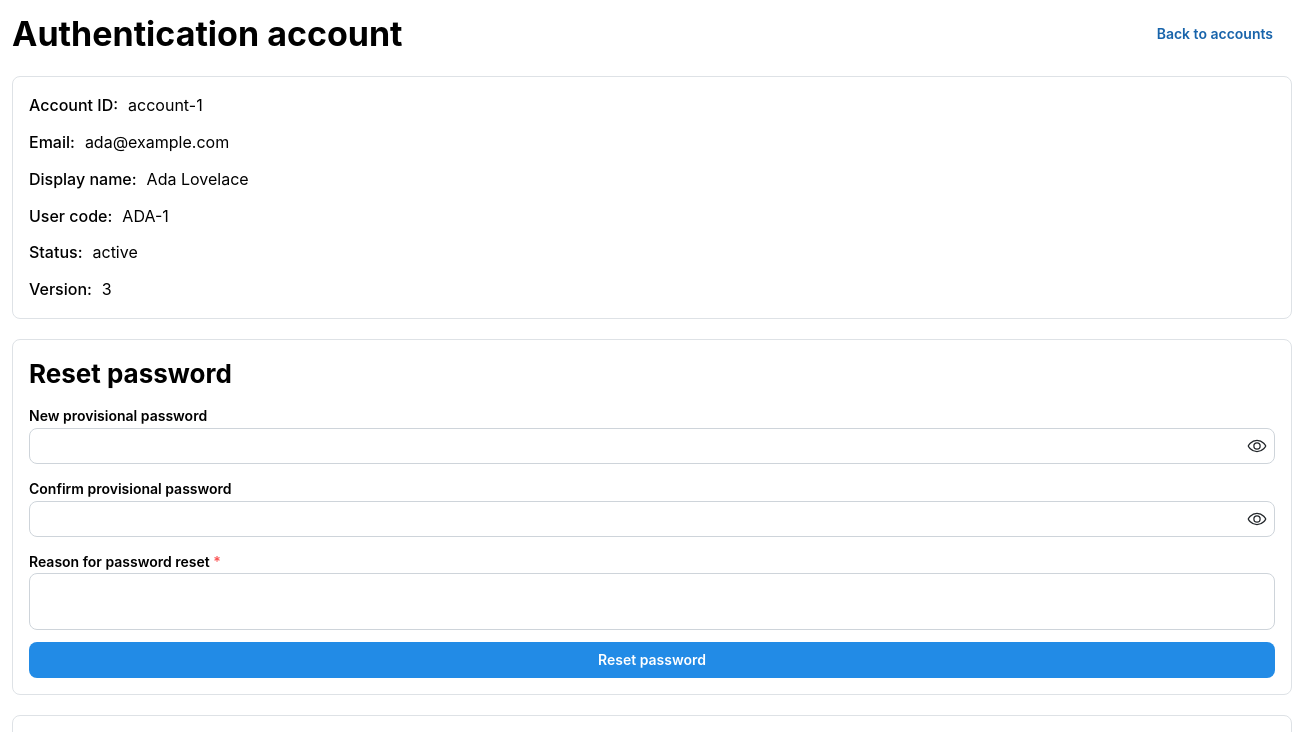
Test case: AuthenticationAccountsPage › validates reset locally and clears secret inputs without submitting
Type "one" into the password field labelled "New provisional password" at point(652, 446), box [30,429,1274,463]
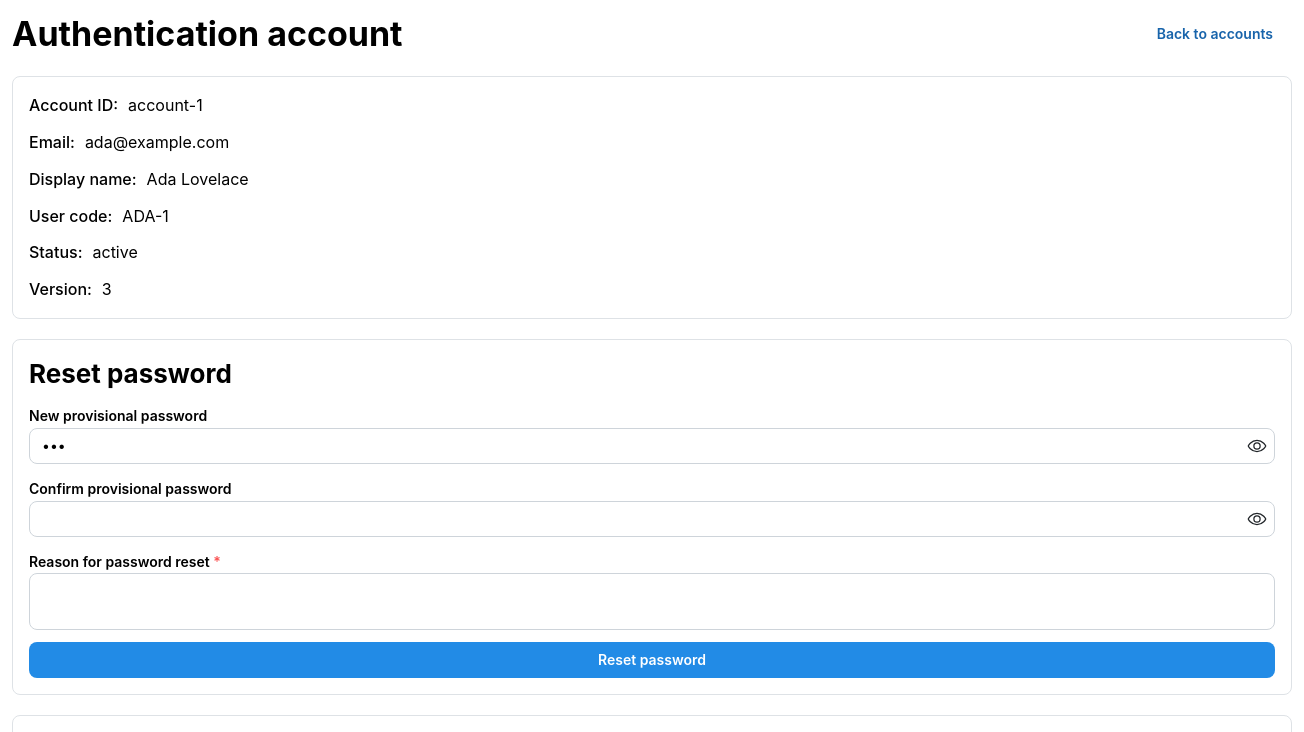
Type "two" into the password field labelled "Confirm provisional password" at point(652, 519), box [30,502,1274,536]
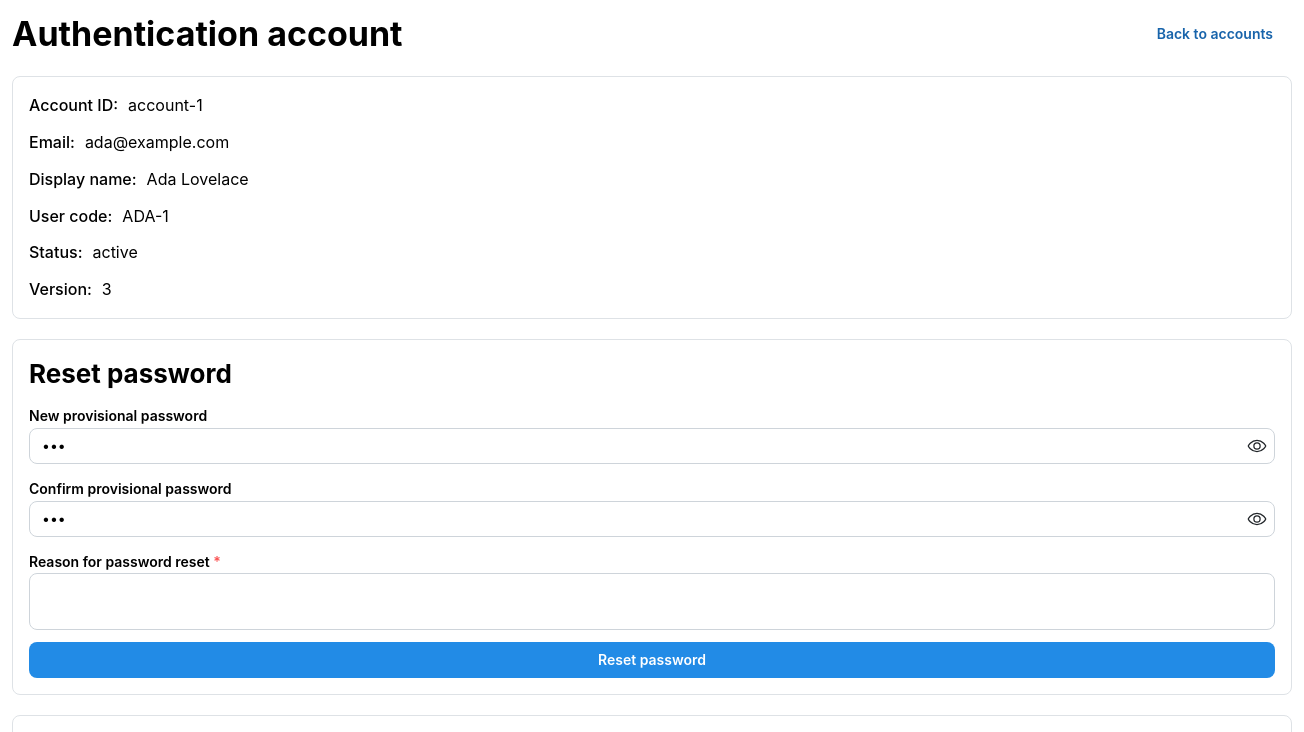
Click the button "Reset password" at point(652, 660), box [29,642,1275,678]
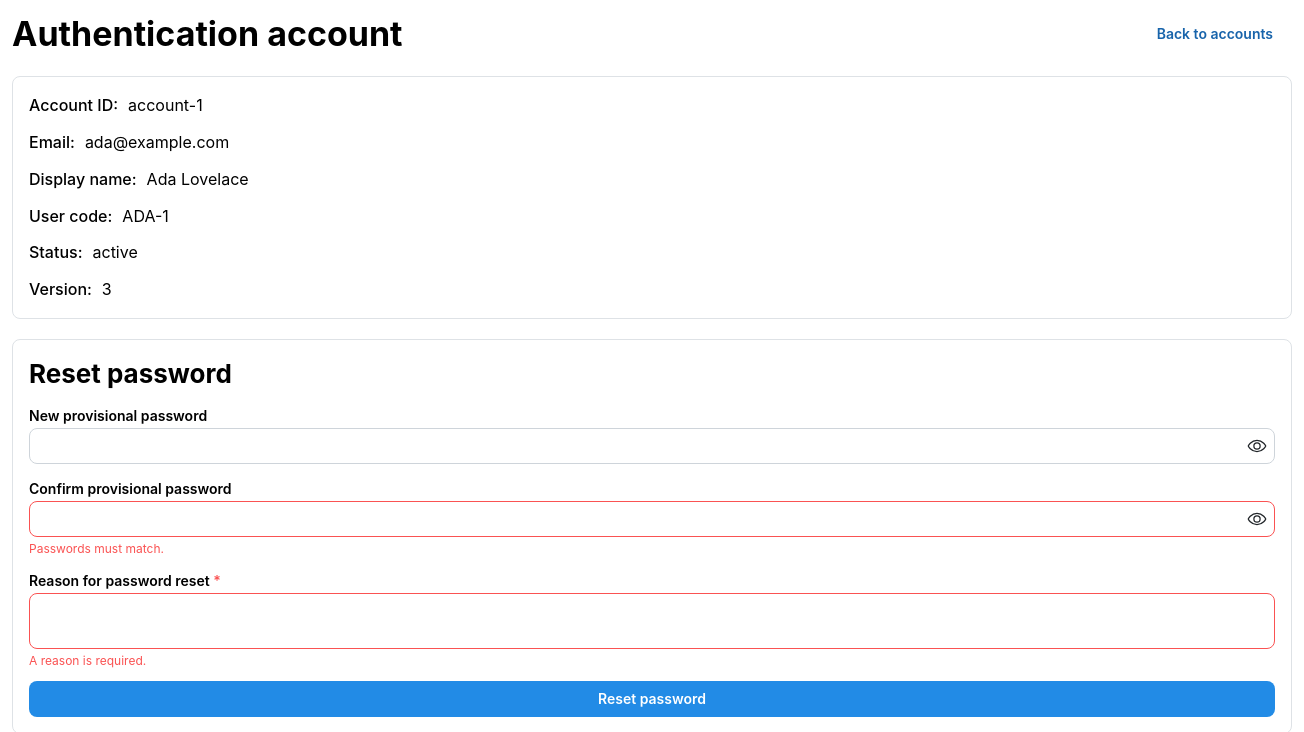
Result: the text "Passwords must match." is shown at [29,541,164,556]
Result: the password field labelled "New provisional password" is empty at [30,429,1274,463]
